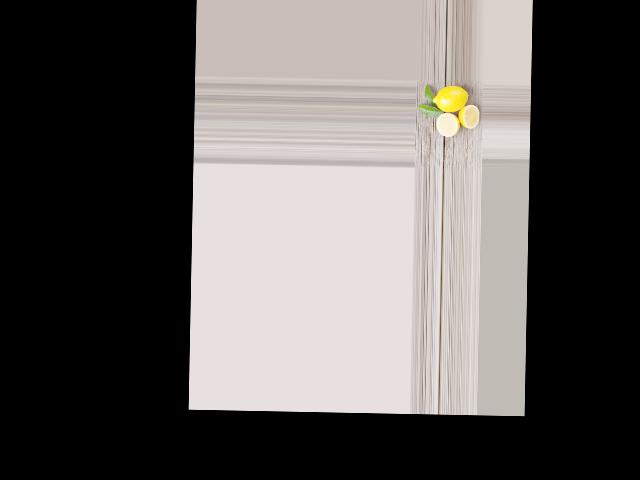lemon: (429, 87, 468, 114)
